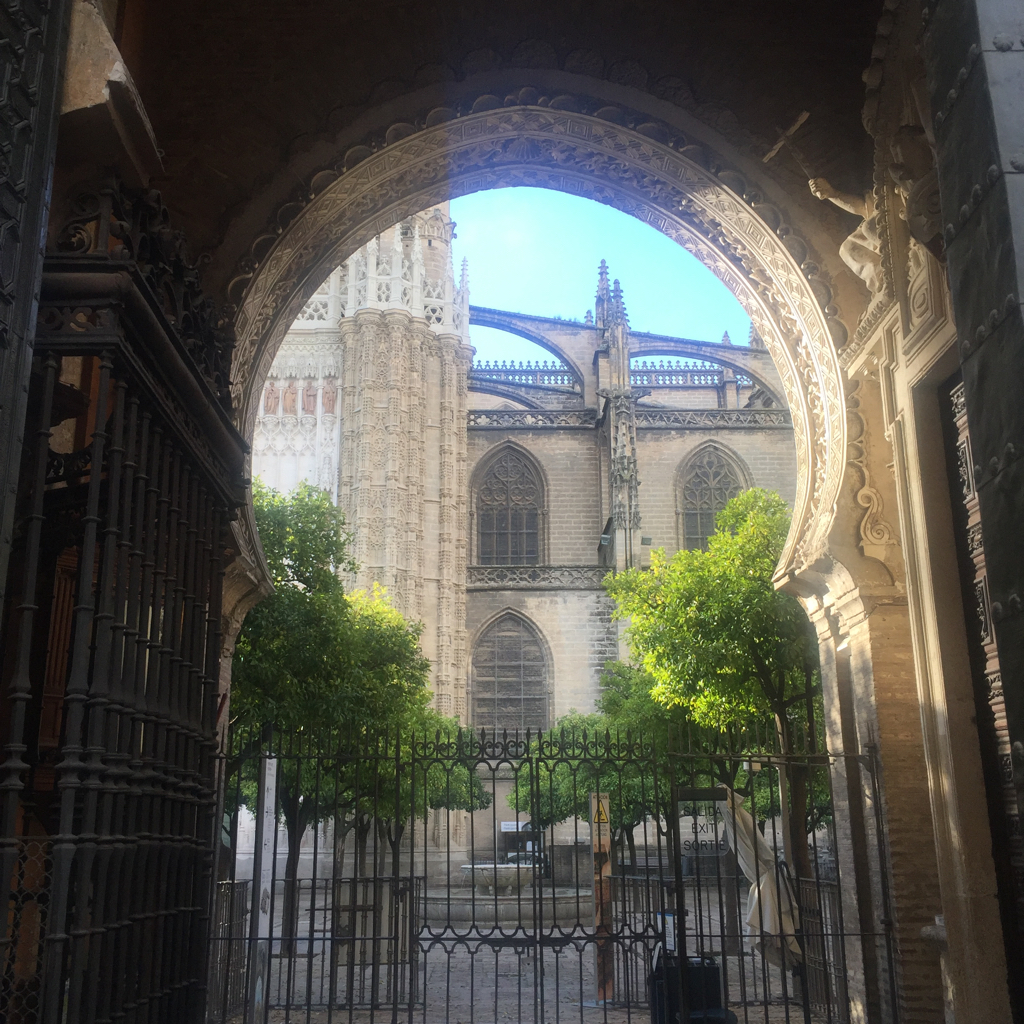arco-apuntado: (465, 603, 558, 688), (468, 434, 552, 519), (672, 436, 759, 510)
arco-herradura: (201, 84, 880, 648)
